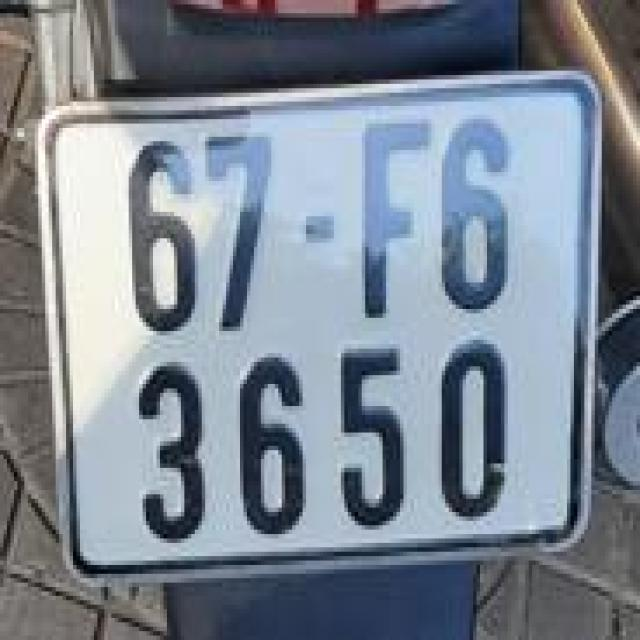0: (429, 331, 516, 521)
3: (113, 353, 214, 552)
5: (336, 329, 412, 541)
6: (438, 104, 522, 333), (230, 349, 327, 534), (123, 132, 207, 340)
7: (198, 123, 289, 340)
F: (348, 113, 431, 320)
